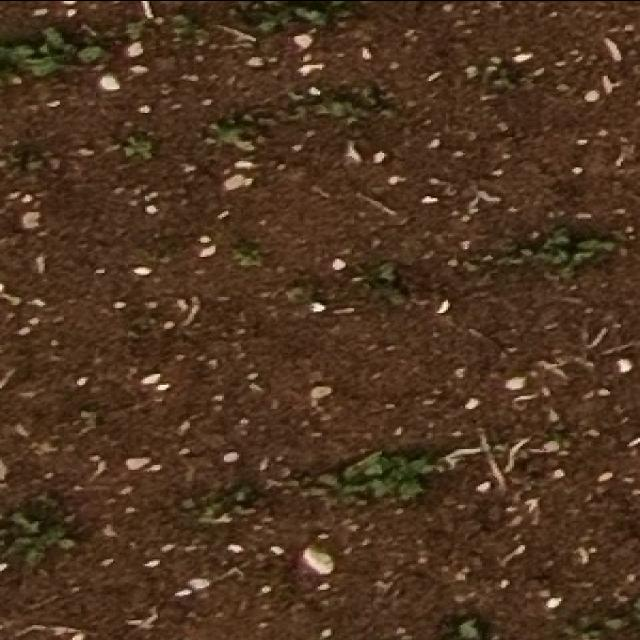cirse: (6, 503, 84, 569)
